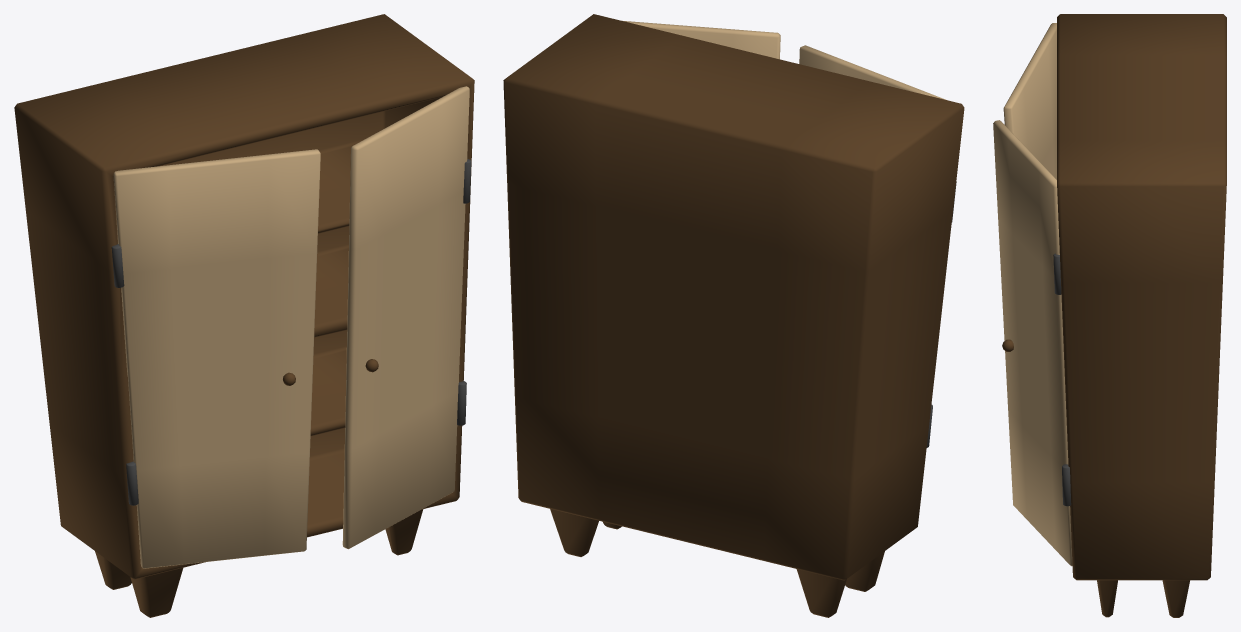
File: armoire.fbx
3 renders of one model, left to right at view 1: azimuth 30°, elevation 25°; view 2: azimuth 150°, elevation 25°; view 3: azimuth 270°, elevation 25°, orthographic. The views are drawn at different scales.
Visible parts, largest first — view 1: Cube.004; view 2: Cube.004; view 3: Cube.004.
Boxes of the visible parts, <box> form: Cube.004: <box>14,14,474,617</box>; Cube.004: <box>503,14,964,617</box>; Cube.004: <box>993,14,1226,617</box>.
Size of the model in its own units: 2316 by 2866 by 1339.
